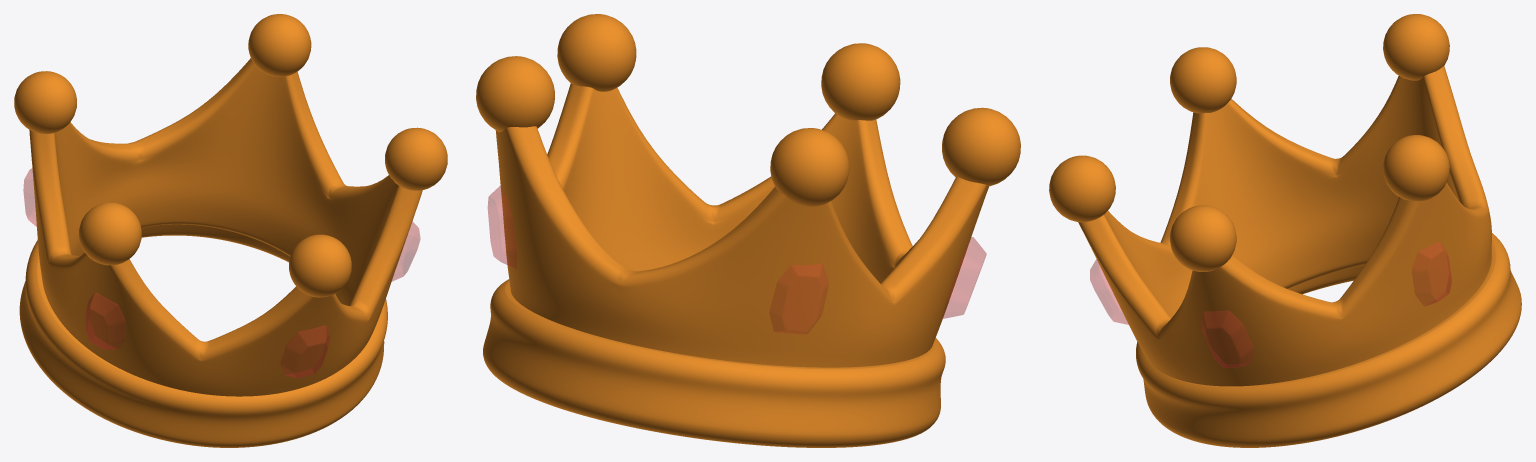
The picture shows the model from 3 angles, left to right: view 1: azimuth 30°, elevation 25°; view 2: azimuth 150°, elevation 25°; view 3: azimuth 270°, elevation 25°; orthographic projection. The views are drawn at different scales.
Parts seen in each view (by area): view 1: Circle.007, Circle.008, Cube.007, Sphere.005, Sphere.001, Sphere.003, Sphere.002, Sphere.004; view 2: Circle.007, Circle.008, Cube.007, Sphere.001, Sphere.004, Sphere.003, Sphere.002, Sphere.005; view 3: Circle.007, Circle.008, Cube.007, Sphere.005, Sphere.002, Sphere.001, Sphere.003, Sphere.004.
Part boxes in pixels (<box>): Circle.007: <box>29,58,422,396</box>; Circle.008: <box>19,224,387,447</box>; Cube.007: <box>23,168,420,378</box>; Sphere.005: <box>248,14,311,76</box>; Sphere.001: <box>289,234,351,297</box>; Sphere.003: <box>79,202,141,265</box>; Sphere.002: <box>385,127,447,190</box>; Sphere.004: <box>14,71,76,133</box>; Circle.007: <box>495,83,988,367</box>; Circle.008: <box>483,279,945,447</box>; Cube.007: <box>488,185,986,334</box>; Sphere.001: <box>821,43,900,120</box>; Sphere.004: <box>770,128,849,206</box>; Sphere.003: <box>942,107,1020,186</box>; Sphere.002: <box>557,14,636,91</box>; Sphere.005: <box>476,56,554,132</box>; Circle.007: <box>1078,66,1491,386</box>; Circle.008: <box>1136,233,1521,447</box>; Cube.007: <box>1090,241,1451,367</box>; Sphere.005: <box>1383,135,1449,201</box>; Sphere.002: <box>1170,205,1236,271</box>; Sphere.001: <box>1049,155,1115,222</box>; Sphere.003: <box>1170,47,1236,113</box>; Sphere.004: <box>1383,14,1449,80</box>.
Bounding box in the file's own units: 2.84 × 2.31 × 3.05.
